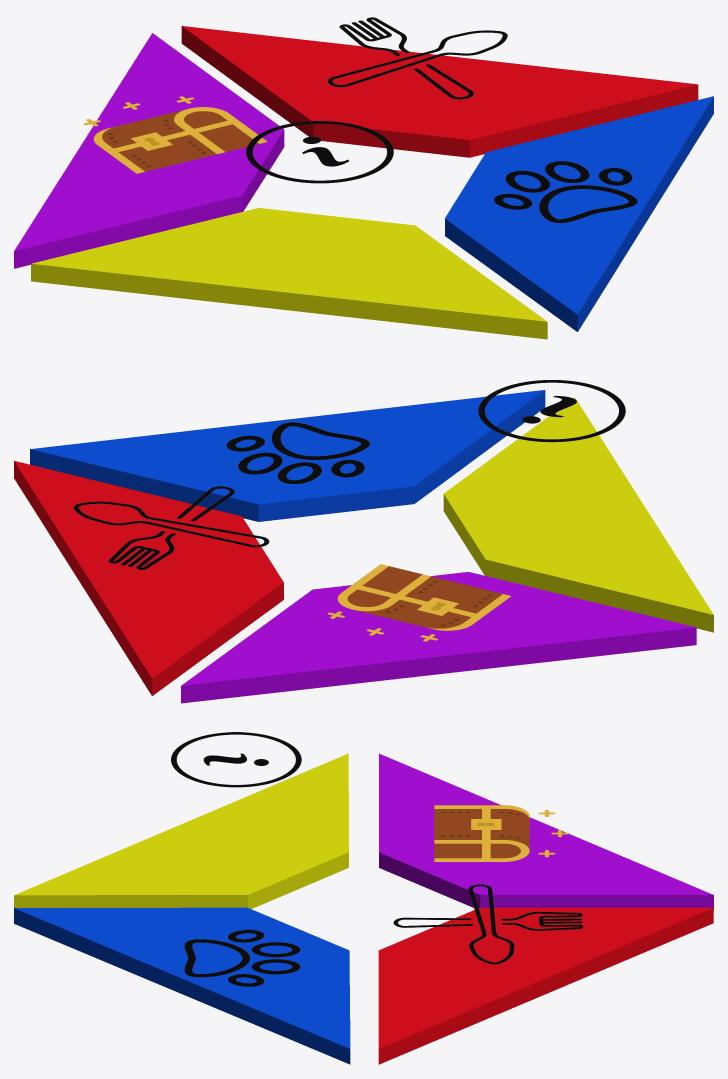
The model's file is innerring_0.1.glb.
3 views of the same model, one above another, from view 1: azimuth 30°, elevation 25°; view 2: azimuth 150°, elevation 25°; view 3: azimuth 270°, elevation 25° (orthographic). The views are drawn at different scales.
Visible parts, largest first — view 1: Circle.011, Circle.012, Circle.010, Circle.009, treasure-chest, paw, fork, info; view 2: Circle.010, Circle.011, Circle.012, Circle.009, treasure-chest, paw, fork, info; view 3: Circle.011, Circle.012, Circle.010, Circle.009, treasure-chest, paw, fork, info.
Part boxes in pixels (left/top/right/bottom): Circle.011: left=31, top=208, right=547, bottom=339; Circle.012: left=181, top=26, right=698, bottom=157; Circle.010: left=445, top=96, right=713, bottom=331; Circle.009: left=14, top=33, right=284, bottom=268; treasure-chest: left=83, top=96, right=267, bottom=173; paw: left=494, top=161, right=637, bottom=222; fork: left=327, top=17, right=507, bottom=99; info: left=246, top=121, right=393, bottom=183; Circle.010: left=30, top=390, right=545, bottom=521; Circle.011: left=443, top=397, right=713, bottom=632; Circle.012: left=14, top=461, right=283, bottom=695; Circle.009: left=181, top=572, right=696, bottom=703; treasure-chest: left=327, top=564, right=511, bottom=641; paw: left=226, top=422, right=369, bottom=483; fork: left=73, top=486, right=269, bottom=569; info: left=478, top=380, right=625, bottom=442; Circle.011: left=14, top=753, right=348, bottom=908; Circle.012: left=378, top=907, right=713, bottom=1064; Circle.010: left=14, top=907, right=350, bottom=1064; Circle.009: left=379, top=753, right=713, bottom=910; treasure-chest: left=434, top=805, right=568, bottom=861; paw: left=184, top=929, right=300, bottom=986; fork: left=393, top=884, right=583, bottom=964; info: left=171, top=732, right=301, bottom=787.
Size of what is drawn, in the model's own units: 1.73 by 0.291 by 1.73.
Materials: 8 (4 with a texture image).
